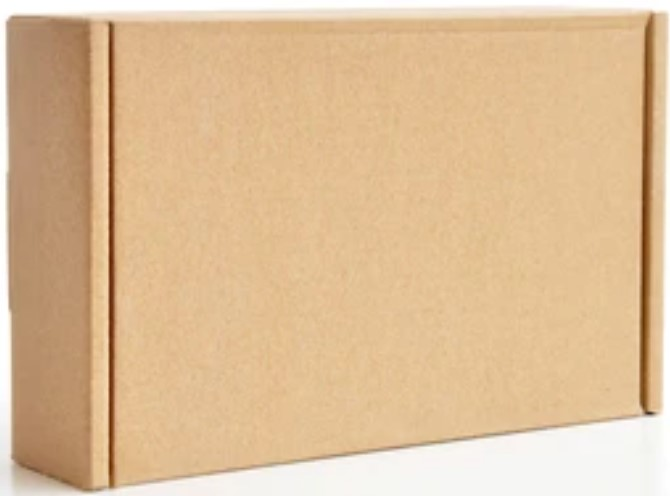stock: (7, 12, 667, 486)
